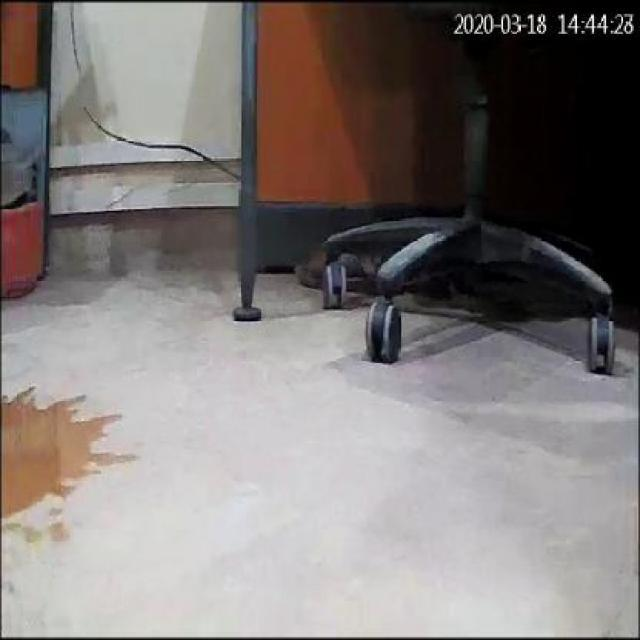spill: (2, 392, 142, 518)
